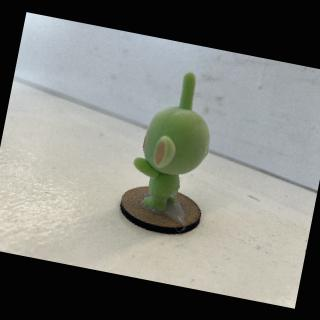teletubby: (133, 72, 209, 210)
